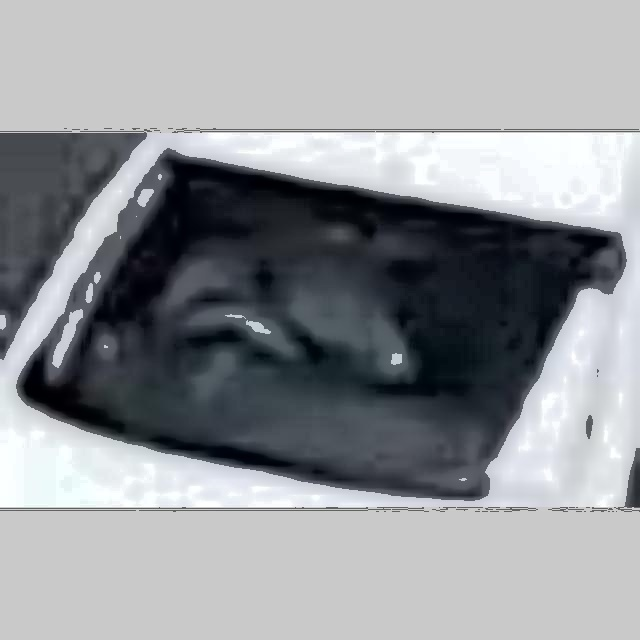pakai: (148, 211, 421, 414)
